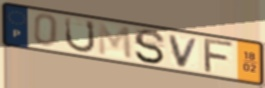0: (32, 13, 60, 49)
F: (203, 38, 237, 75)
M: (96, 21, 135, 62)
S: (133, 28, 168, 66)
U: (64, 16, 98, 54)
V: (167, 34, 201, 70)
